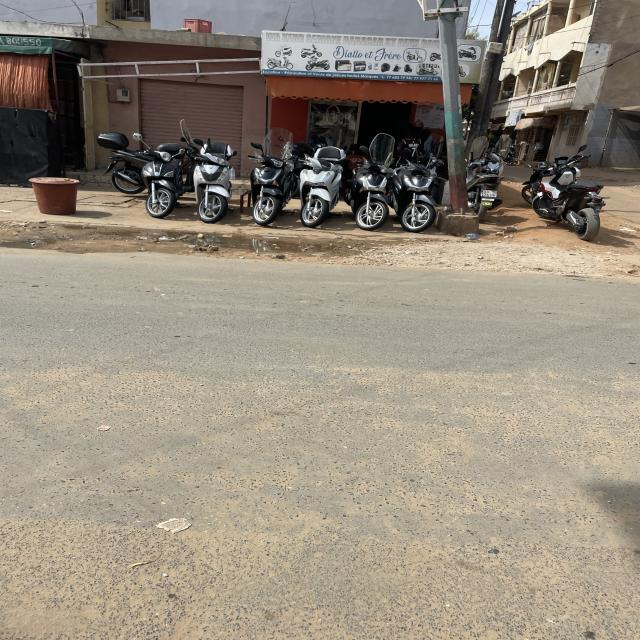moto: (533, 146, 608, 241), (249, 130, 296, 226), (348, 135, 394, 231), (299, 147, 348, 229), (138, 145, 189, 219), (193, 141, 238, 224), (389, 161, 439, 234), (98, 134, 151, 195), (468, 152, 504, 221), (506, 146, 516, 167)
